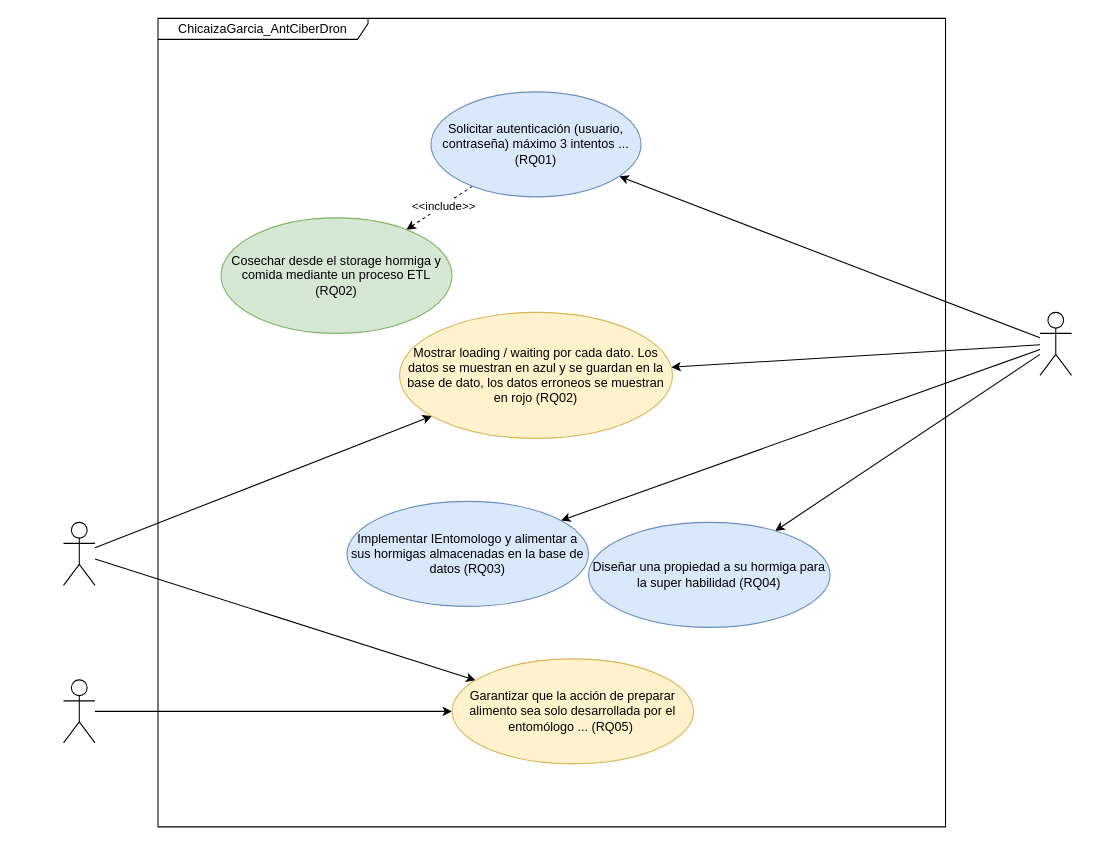
The diagram is 1096 pixels wide and 845 high, and some of its shapes have lost their labels. Each missing label, with the box of its shape:
Entomologo genetista: (62, 679, 95, 743)
Entomologo Normal: (62, 521, 95, 585)
Sistema: (1039, 311, 1072, 375)
